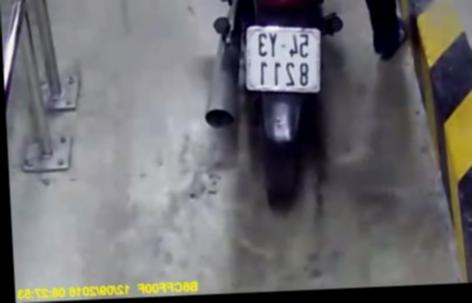License_Plate: (239, 22, 326, 92)
